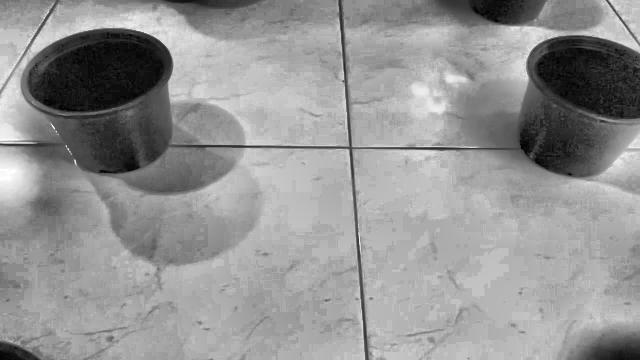pot: (20, 28, 172, 174), (516, 36, 640, 177)
